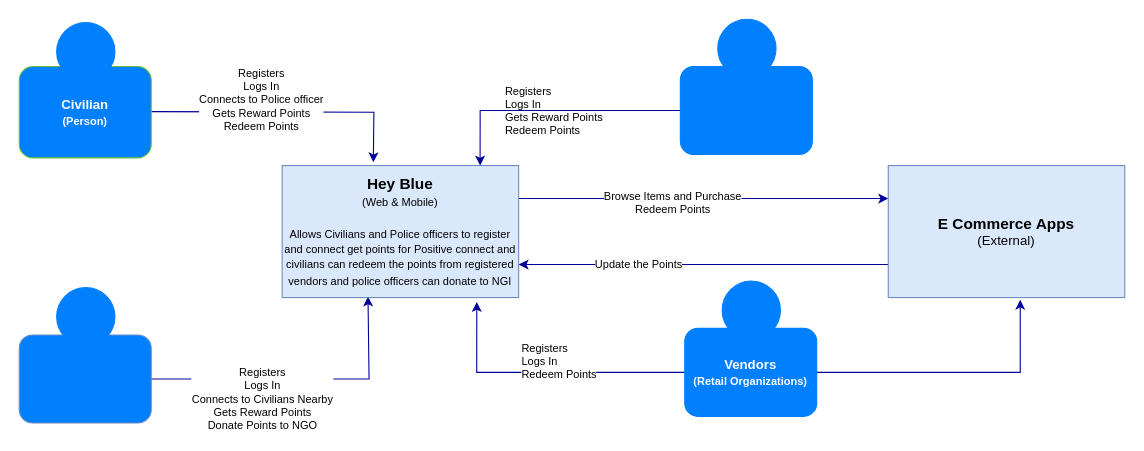
This 1144x451 diagram has some shape labels left out. The shapes that lost their labels are listed below. From the top down, each one's centre as x and y in pixels, then its label:
At (x=745, y=110): "NGO (Charity Organizations)".
At (x=84, y=378): "Police Officer (Person)".
